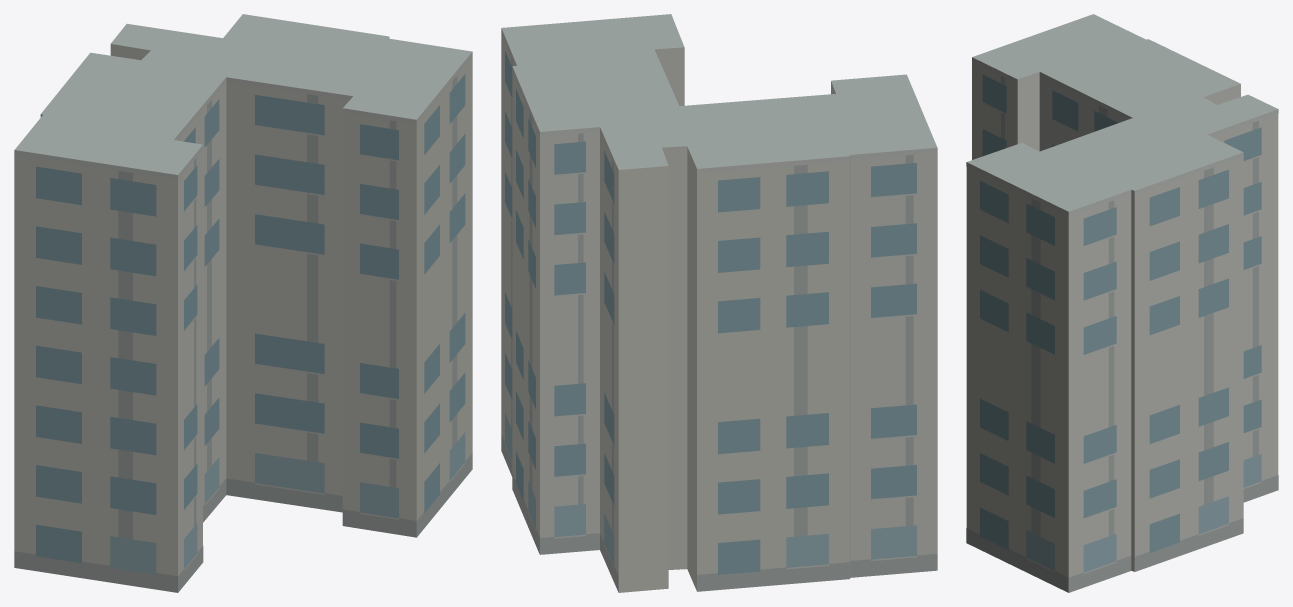
File: survey-upis-33047485.glb
The picture shows the model from 3 angles, left to right: view 1: azimuth 30°, elevation 25°; view 2: azimuth 150°, elevation 25°; view 3: azimuth 270°, elevation 25°; orthographic projection. The views are drawn at different scales.
Parts seen in each view (by area): view 1: survey-upis-33047485.tmp; view 2: survey-upis-33047485.tmp; view 3: survey-upis-33047485.tmp.
Part boxes in pixels (left/top/right/bottom): survey-upis-33047485.tmp: left=14, top=14, right=472, bottom=592; survey-upis-33047485.tmp: left=501, top=14, right=937, bottom=592; survey-upis-33047485.tmp: left=966, top=14, right=1278, bottom=592.
Size of the model in its own units: 23 by 20.65 by 15.32.
